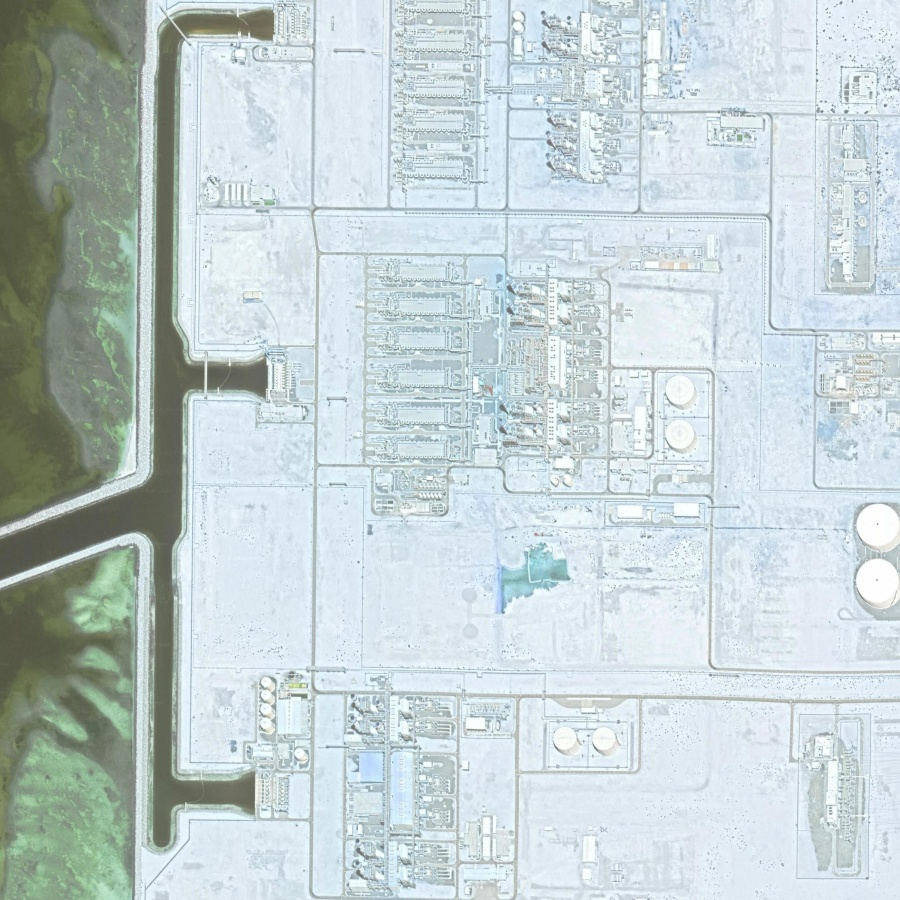PowerPlant: (349, 249, 711, 529)
